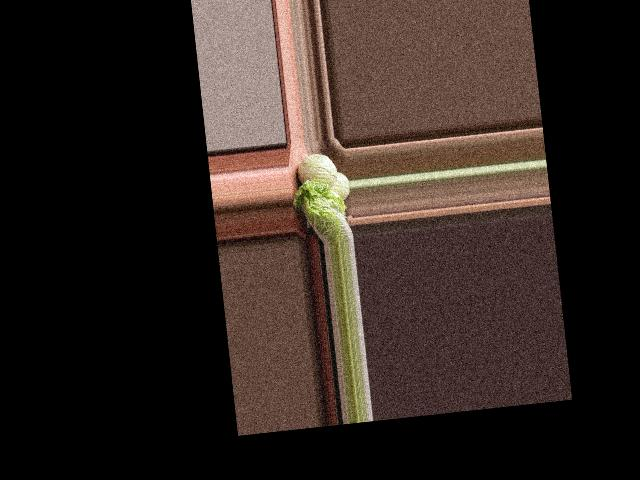lettuce: (289, 176, 351, 245)
